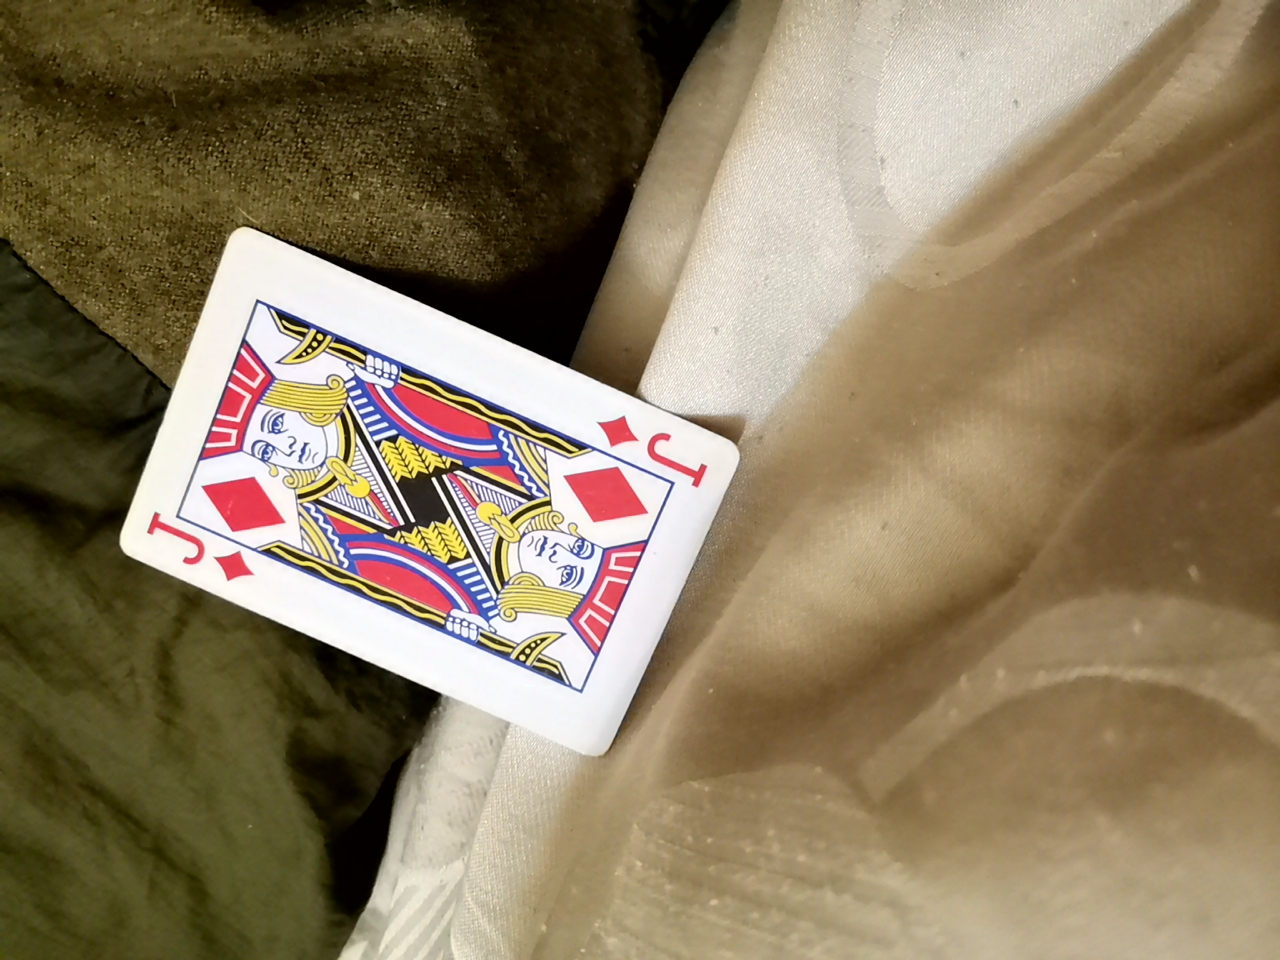fk j: (59, 247, 739, 742)
